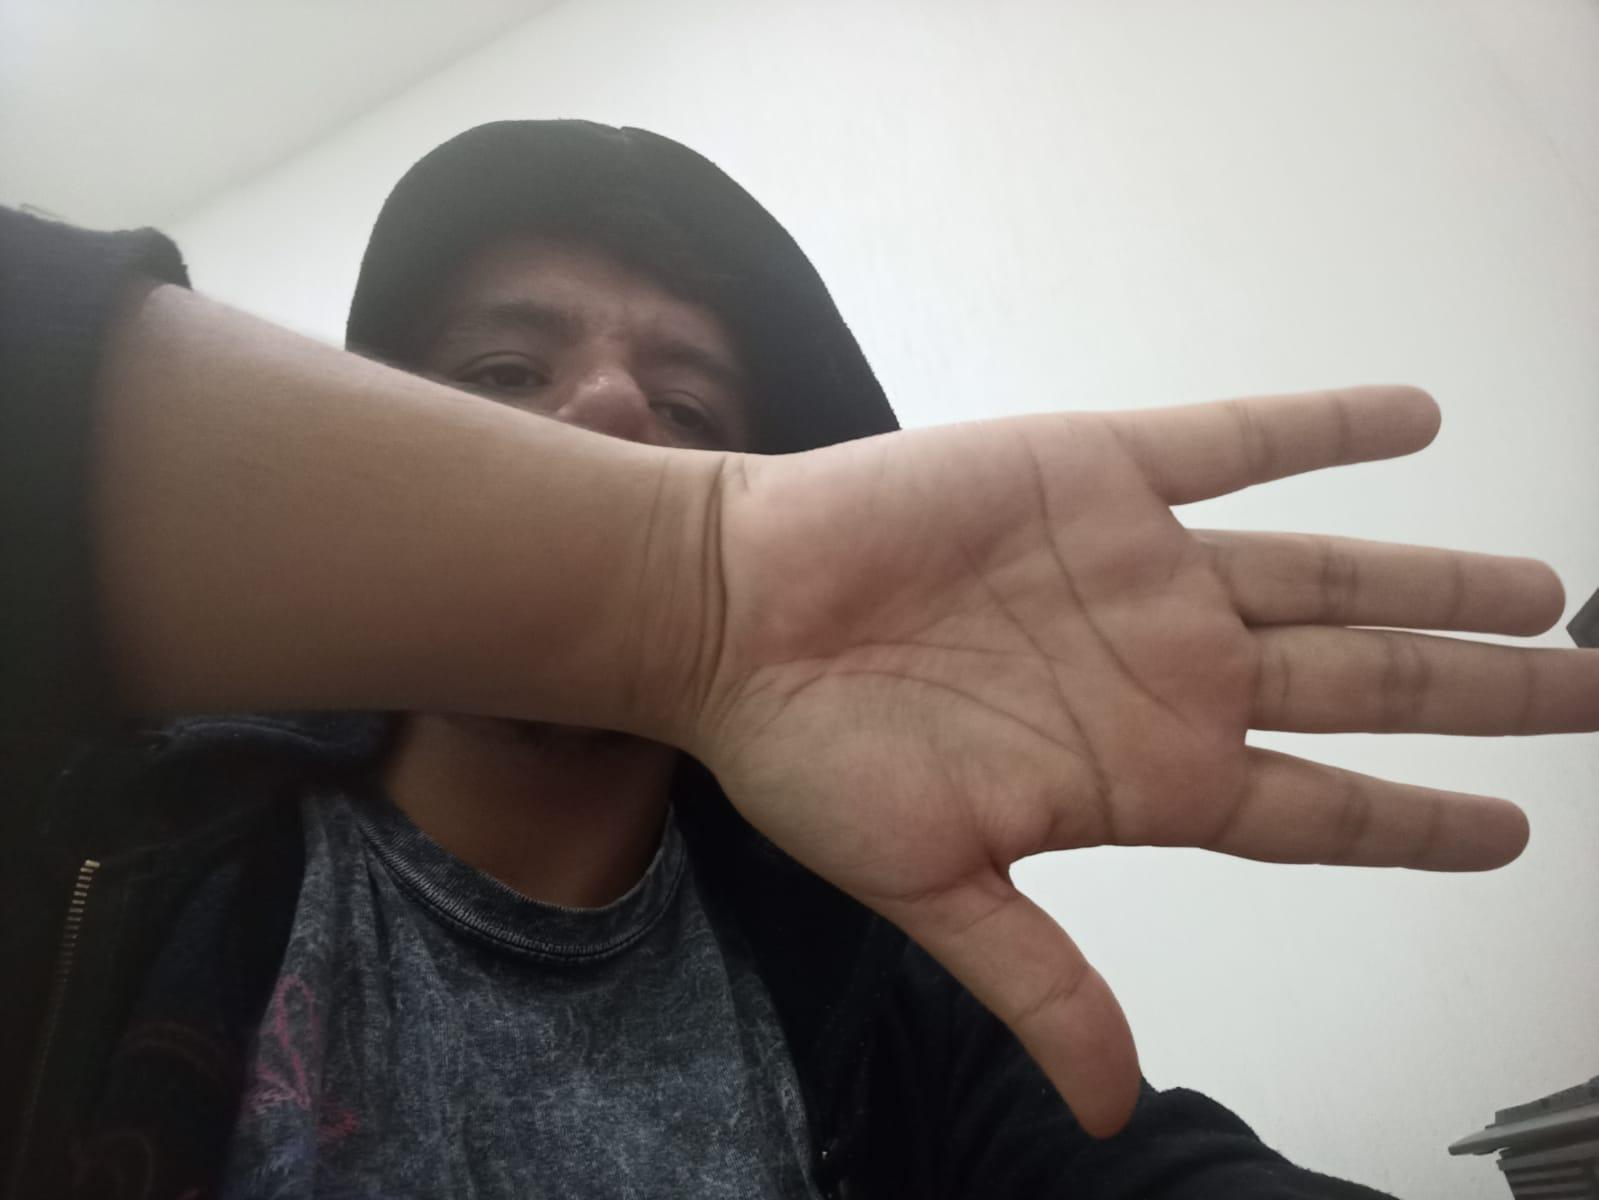Paper: (718, 319, 1599, 1146)
